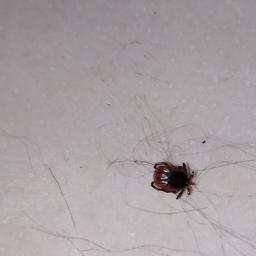Rhipicephalus sanguineus: (149, 162, 195, 199)
